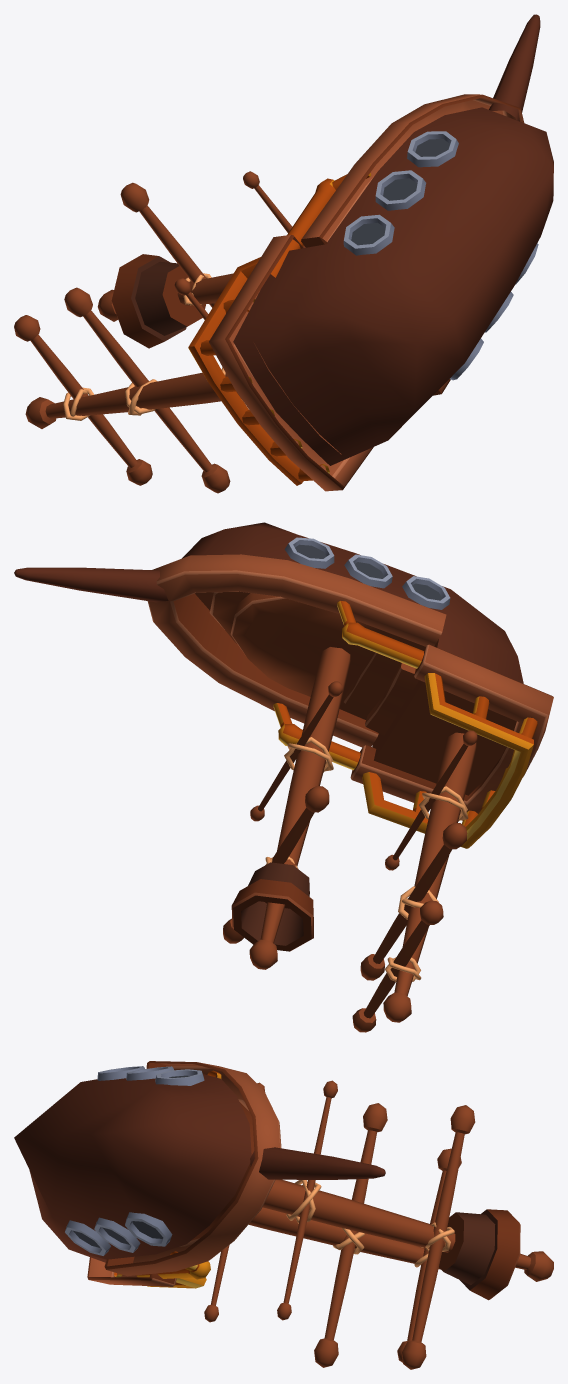
The model's file is Ship_Medium (2).fbx.
3 renders of one model, top to bottom at view 1: azimuth 30°, elevation 25°; view 2: azimuth 150°, elevation 25°; view 3: azimuth 270°, elevation 25°, orthographic. The views are drawn at different scales.
Visible parts, largest first — view 1: Color_01; view 2: Color_01; view 3: Color_01.
Part boxes in pixels (box(x1,y1,x2,y2)): Color_01: box(14, 14, 553, 493); Color_01: box(14, 522, 553, 1032); Color_01: box(14, 1061, 553, 1369).
Size of the model in its own units: 33.35 by 25.48 by 32.76.
